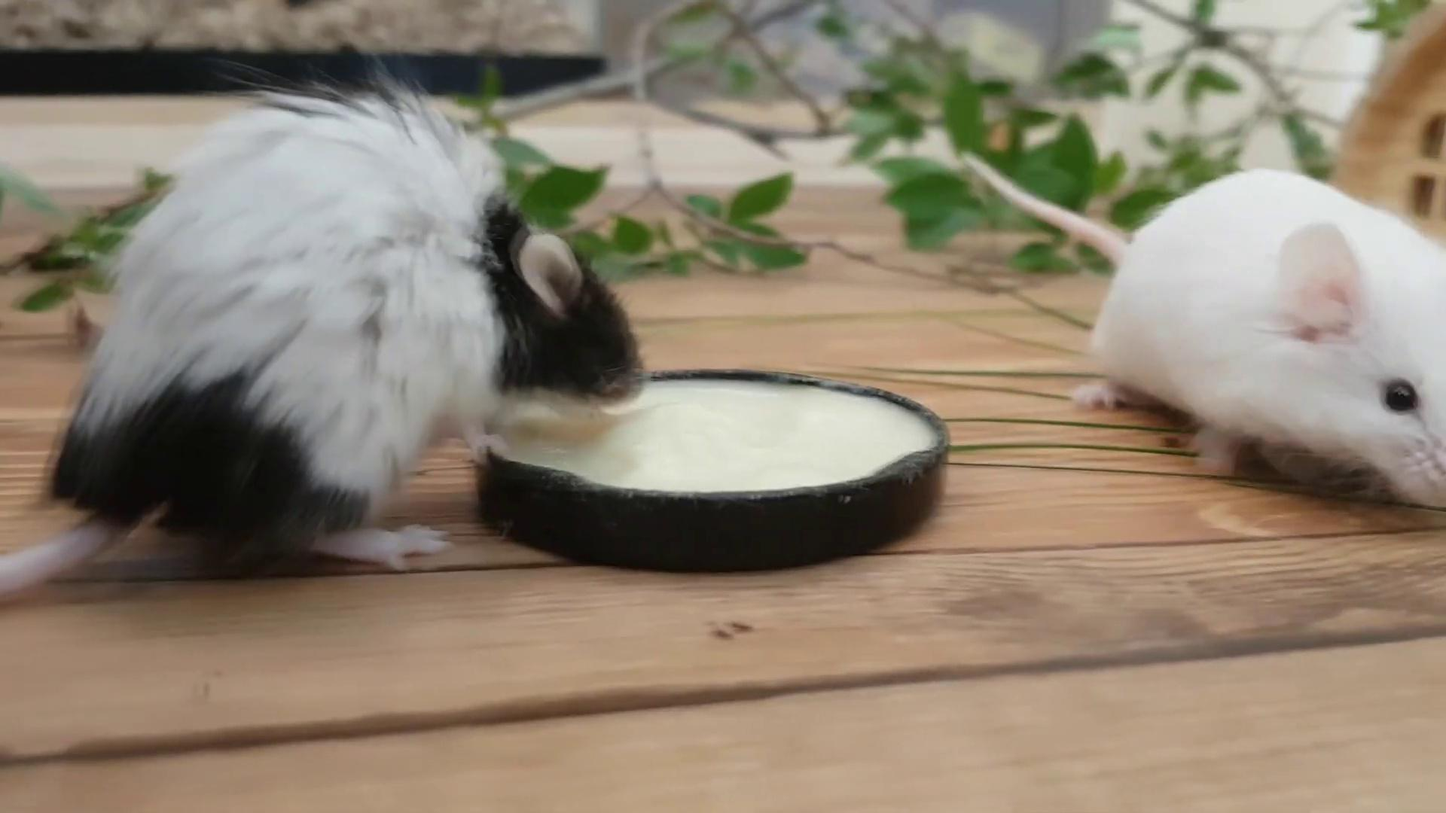rat: (0, 56, 647, 594), (965, 151, 1446, 507)
